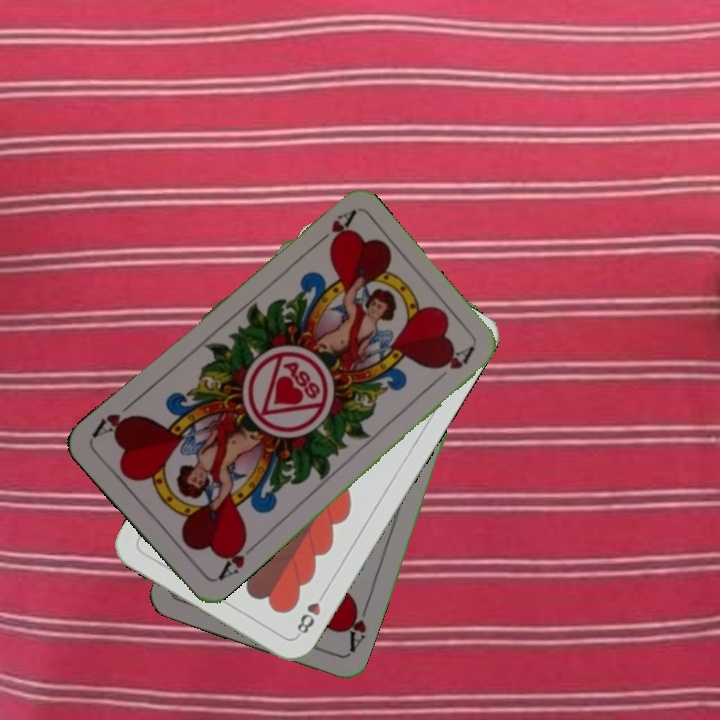H8: (292, 586, 329, 639)
HA: (214, 533, 259, 584), (307, 207, 357, 251), (341, 597, 371, 655)
